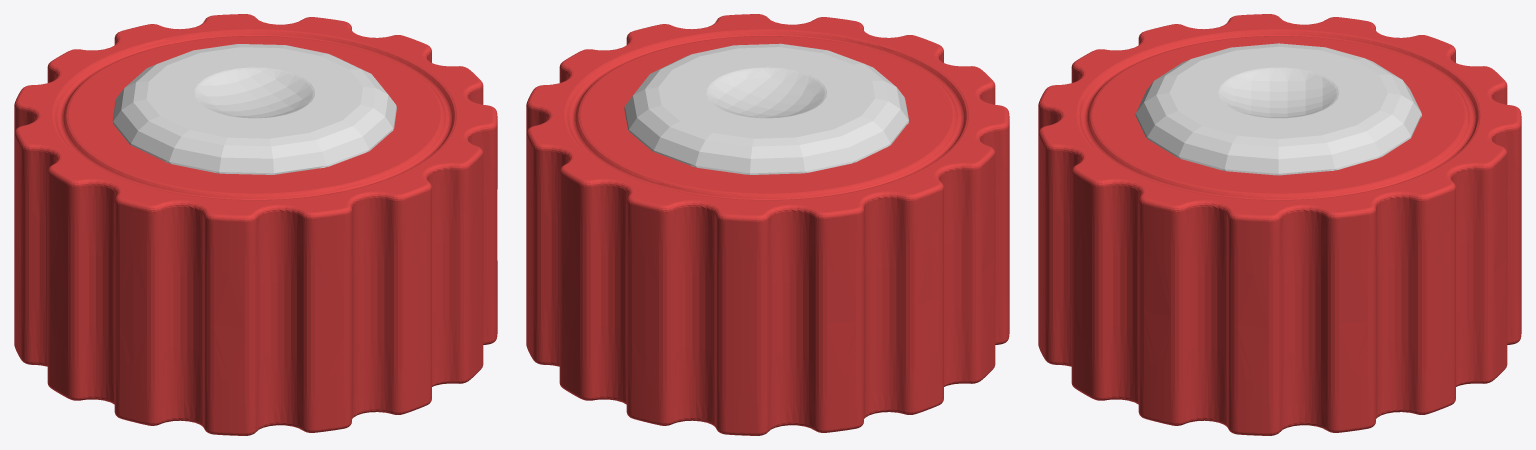
The model's file is bathbutton_red.fbx.
3 renders of one model, left to right at view 1: azimuth 30°, elevation 25°; view 2: azimuth 150°, elevation 25°; view 3: azimuth 270°, elevation 25°, orthographic.
Visible parts, largest first — view 1: 개체_2, 개체_1; view 2: 개체_2, 개체_1; view 3: 개체_2, 개체_1.
Boxes of the visible parts, x1,y1,x2,y2 form: 개체_2: (14, 14, 497, 435); 개체_1: (112, 44, 396, 174); 개체_2: (526, 14, 1009, 435); 개체_1: (624, 43, 908, 174); 개체_2: (1038, 14, 1521, 435); 개체_1: (1135, 43, 1421, 175).
Bounding box in the file's own units: 200 × 120 × 199.
